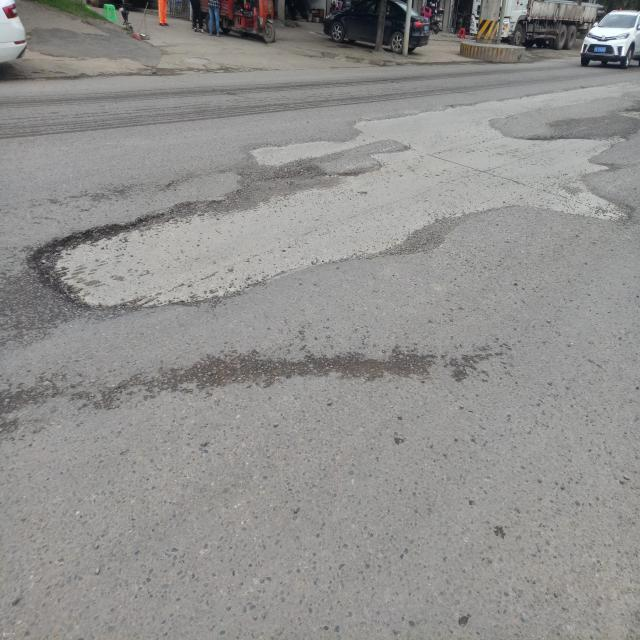Pothole: (16, 175, 236, 330)
